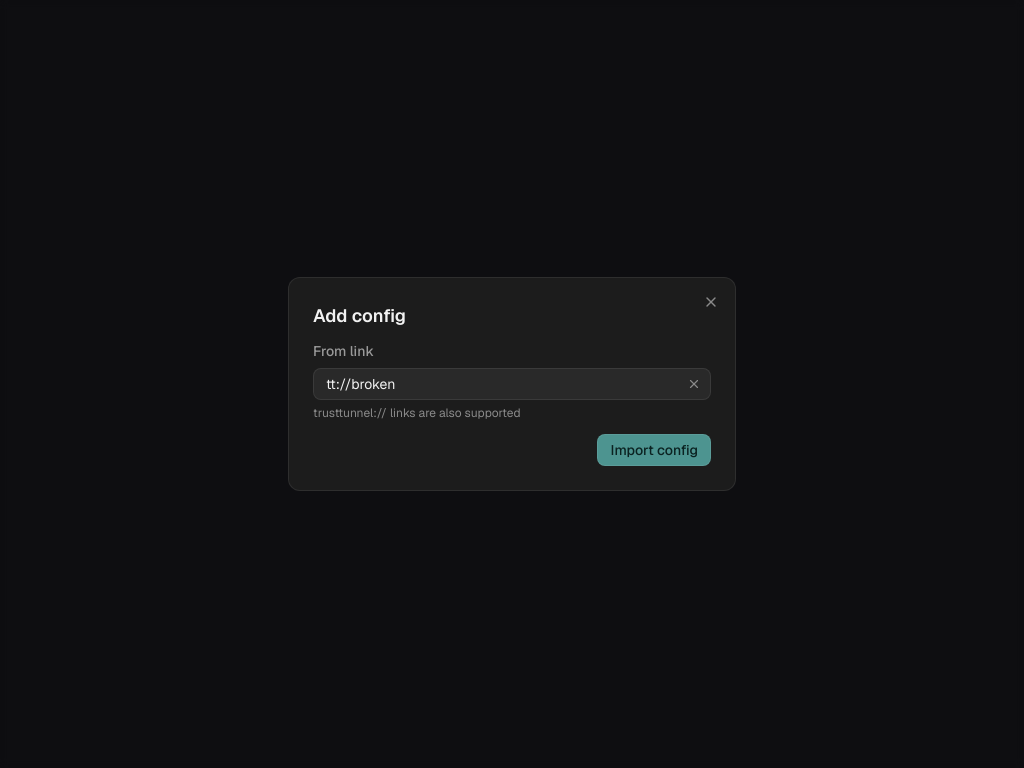
Test: ImportModal (production) › renders an error in-modal and keeps the modal open
The image size is (1024, 768).
Step 1. Click the button "Import config" → (654, 450), box [598,434,711,466]
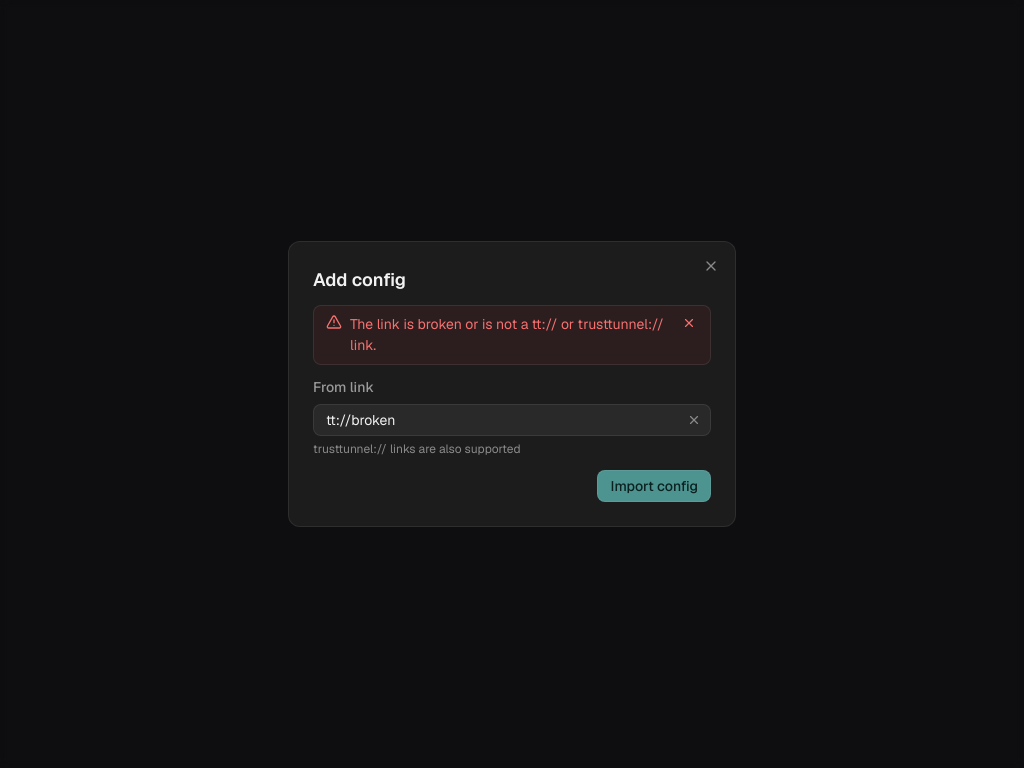
Expected: the dialog is shown, [288,241,736,527]
Expected: the text "The link is broken or is not a tt:// or trusttunnel:// link." is shown, [350,314,672,356]
